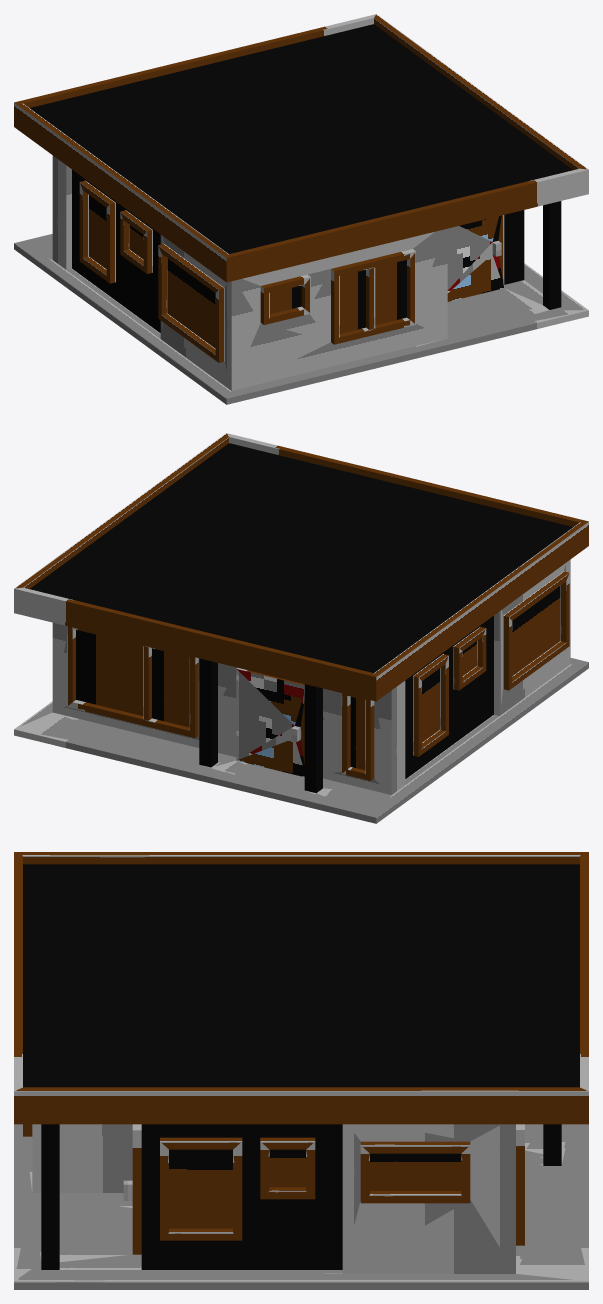
The model's file is obj_house1c.dae.
3 renders of one model, top to bottom at view 1: azimuth 30°, elevation 25°; view 2: azimuth 150°, elevation 25°; view 3: azimuth 270°, elevation 25°, orthographic. The views are drawn at different scales.
Visible parts, largest first — view 1: obj_house1c; view 2: obj_house1c; view 3: obj_house1c.
Boxes of the visible parts, box(x1,y1,x2,y2) form: obj_house1c: box(14, 14, 588, 404); obj_house1c: box(14, 433, 588, 823); obj_house1c: box(14, 852, 588, 1289).
Bounding box in the file's own units: 6.2 × 6.3 × 2.4.
